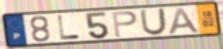5: (84, 11, 110, 40)
8: (29, 15, 51, 43)
A: (167, 7, 202, 36)
L: (56, 15, 81, 41)
P: (111, 10, 139, 39)
U: (139, 7, 168, 37)
